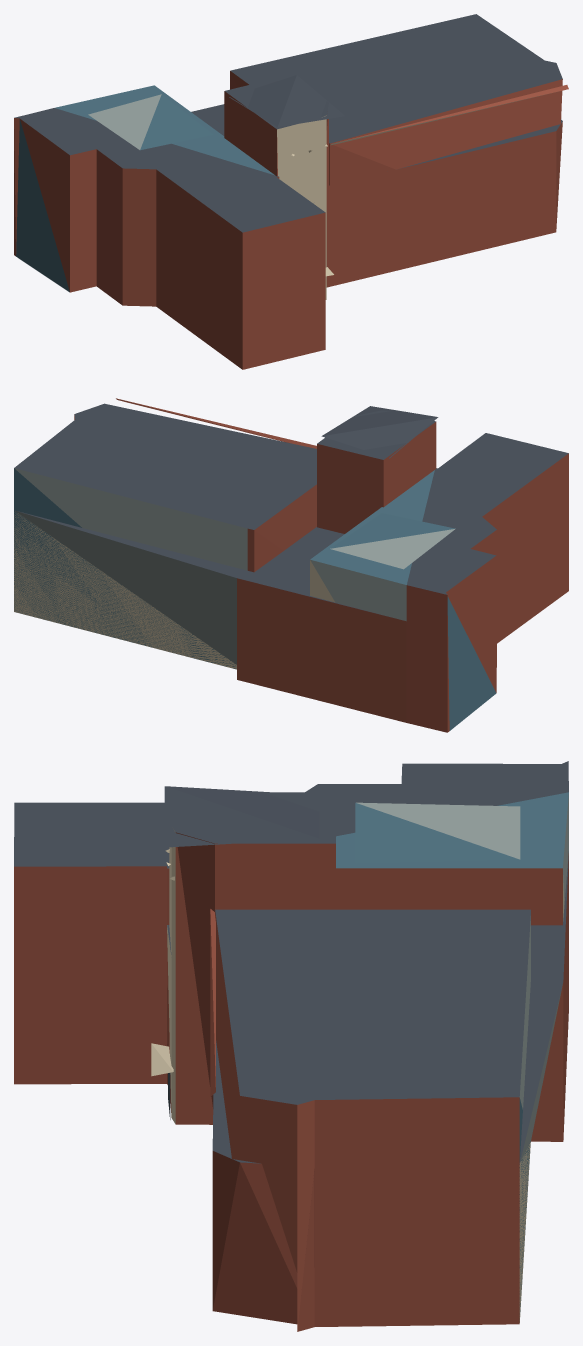
Rendered from lab111.lod2.glb.
3 views of the same model, one above another, from view 1: azimuth 30°, elevation 25°; view 2: azimuth 150°, elevation 25°; view 3: azimuth 270°, elevation 25° (orthographic). The views are drawn at different scales.
Visible parts, largest first — view 1: lod2; view 2: lod2; view 3: lod2.
Boxes of the visible parts, left/top/right/bottom form: lod2: left=14, top=14, right=568, bottom=369; lod2: left=14, top=398, right=568, bottom=732; lod2: left=14, top=761, right=568, bottom=1331.
Bounding box in the file's own units: 55.8 × 21.9 × 37.
